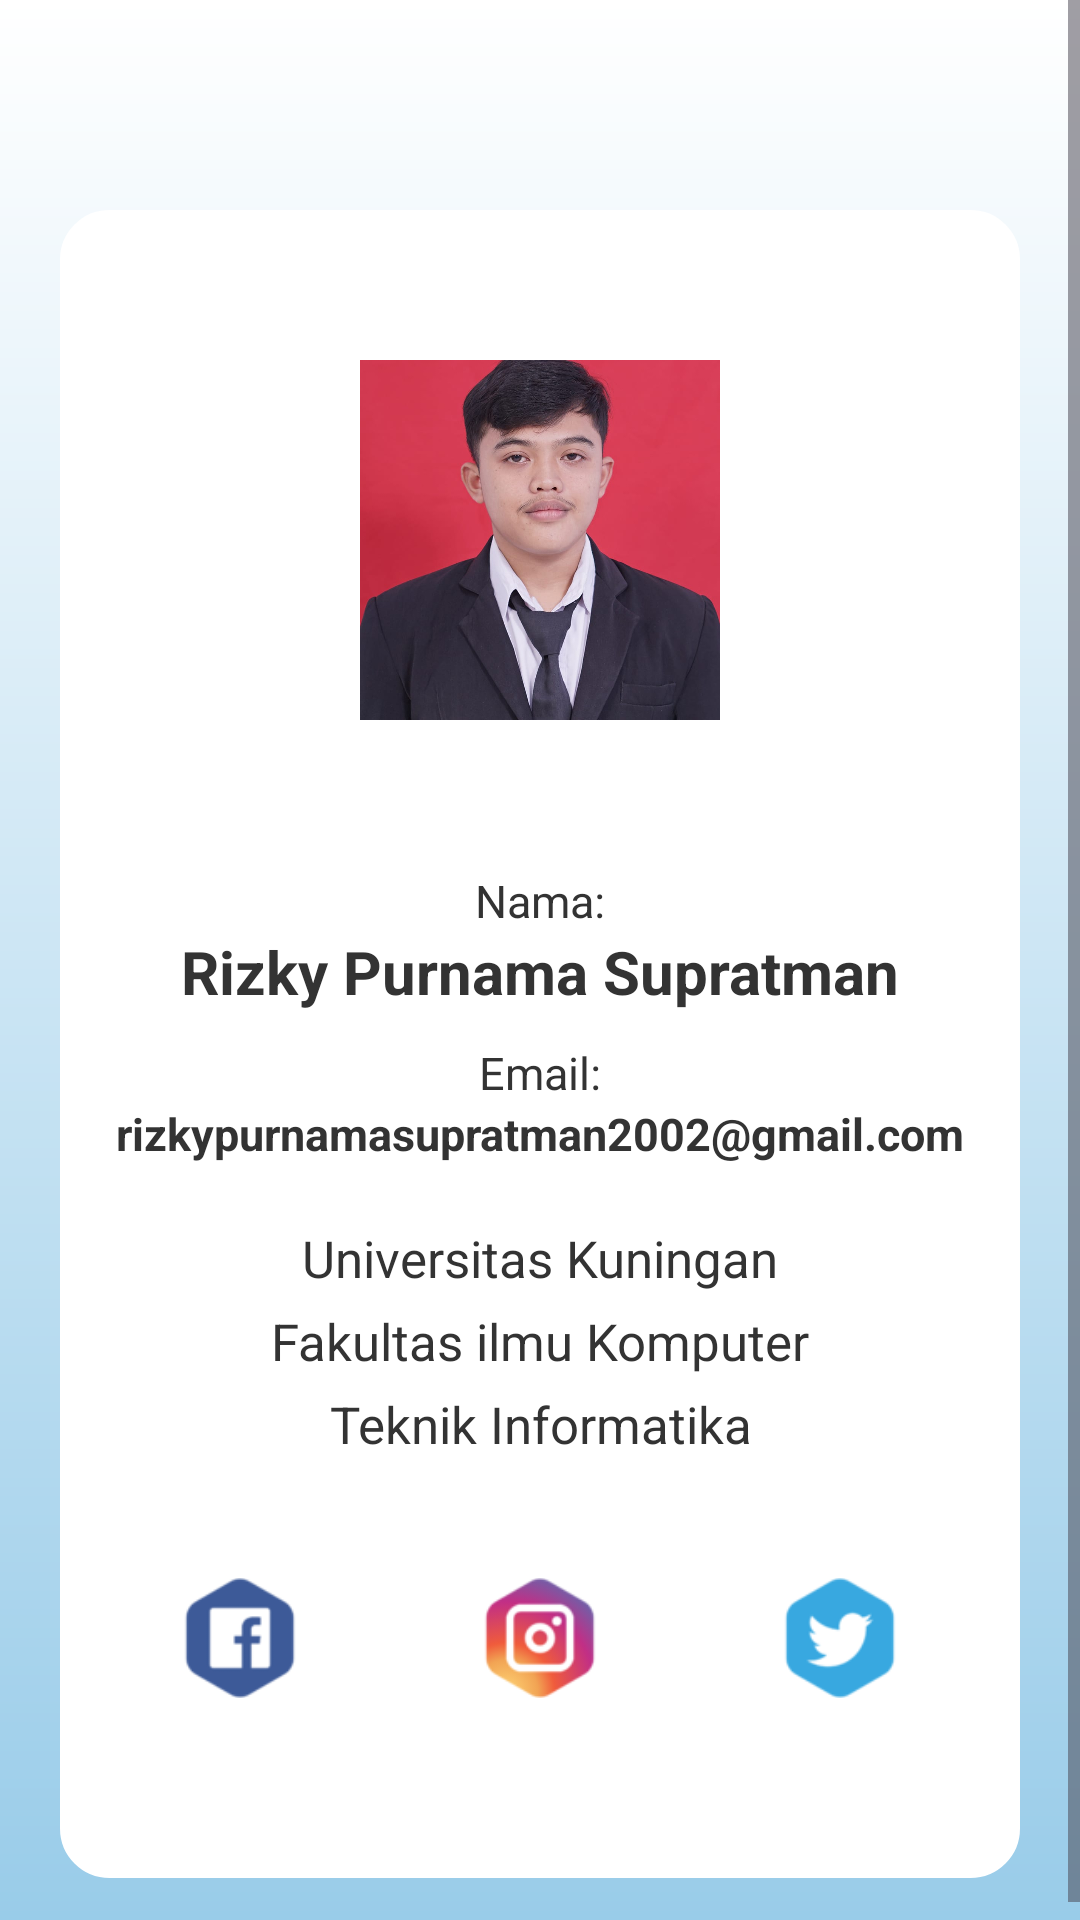

Icon click points for this 1080px x 1920px phone screenshot, format point (x, y):
developer: point (540, 540)
